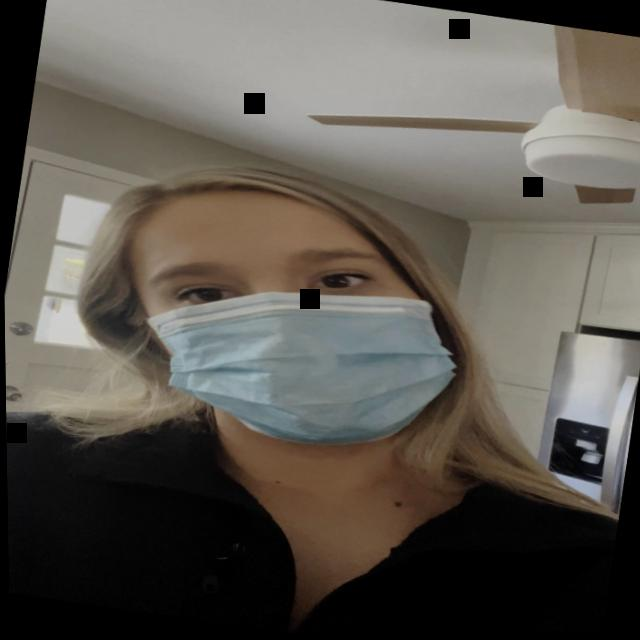Mask: (93, 173, 484, 471)
